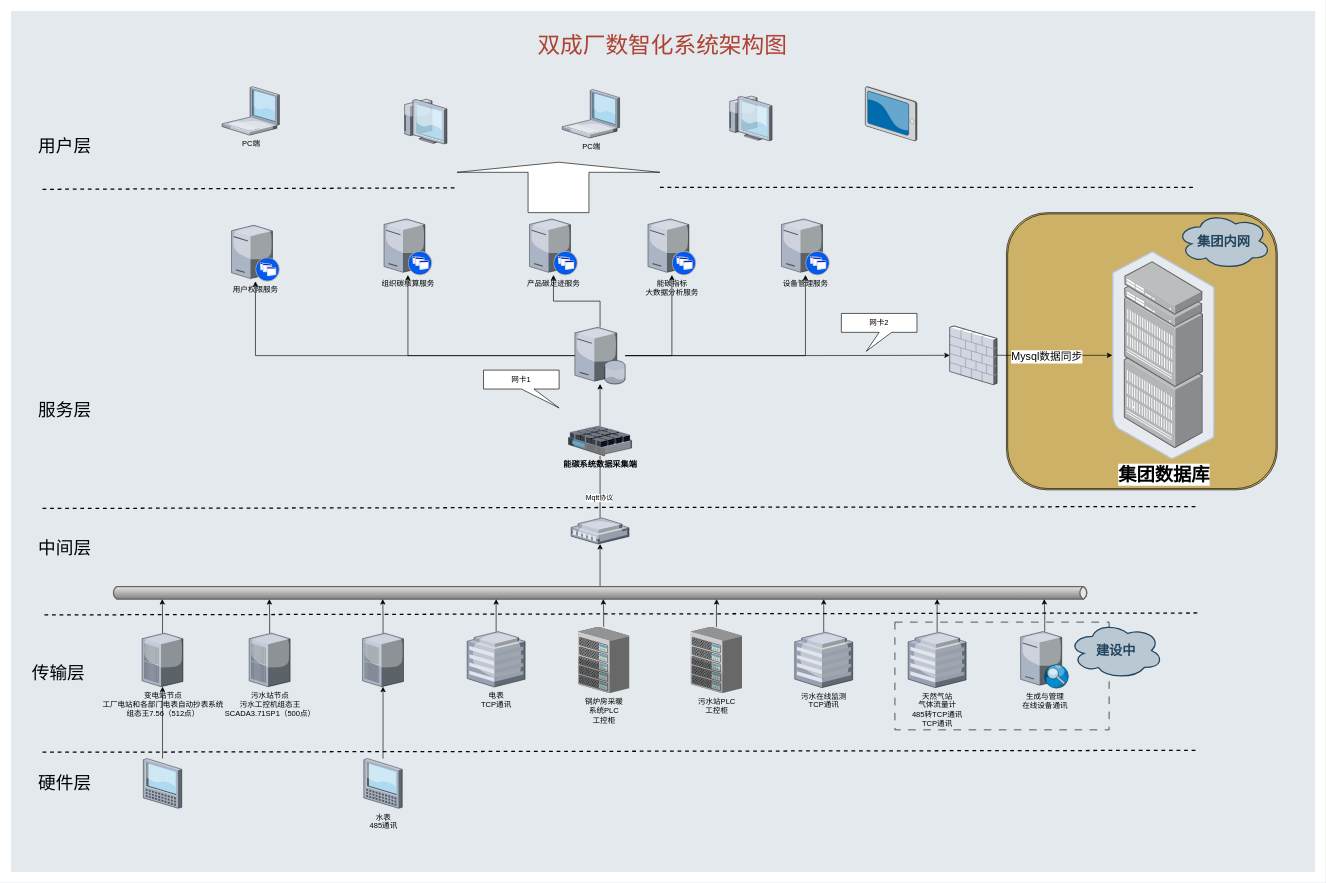
The diagram is 1326 pixels wide and 883 high, and some of its shapes have lost their labels. Each missing label, with the centre of its shape:
大屏: the point at 891,113
工务内部局域网: the point at 600,592
巨控网关 NET432-CJ（2000个点）: the point at 600,531
电表 485通讯: the point at 162,783
能碳系统 Mysql数据库 双网卡（厂区内网、集团内网）: the point at 600,355
锅炉房节点 冬季供暖系统工控机 组态王7.53（512点）: the point at 382,659
防火墙: the point at 973,355
